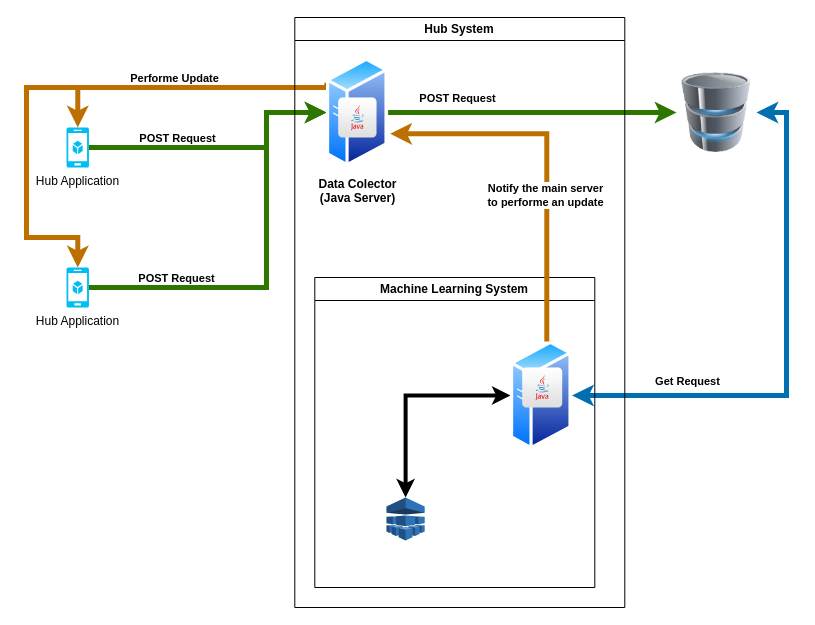
Image size: 815x625. Some labels were removed from this diagram. The box of each missing label's shape, as (x1, y1, x2, y2) in pixels:
Database: (676, 72, 756, 152)
Java Server: (510, 340, 572, 450)
Machine Learning (Fine Tunning for each person): (386, 496, 425, 540)
